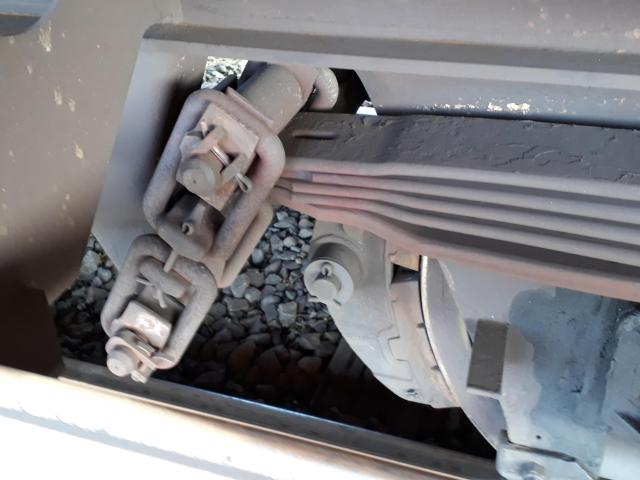blattfederww: (268, 100, 640, 281)
